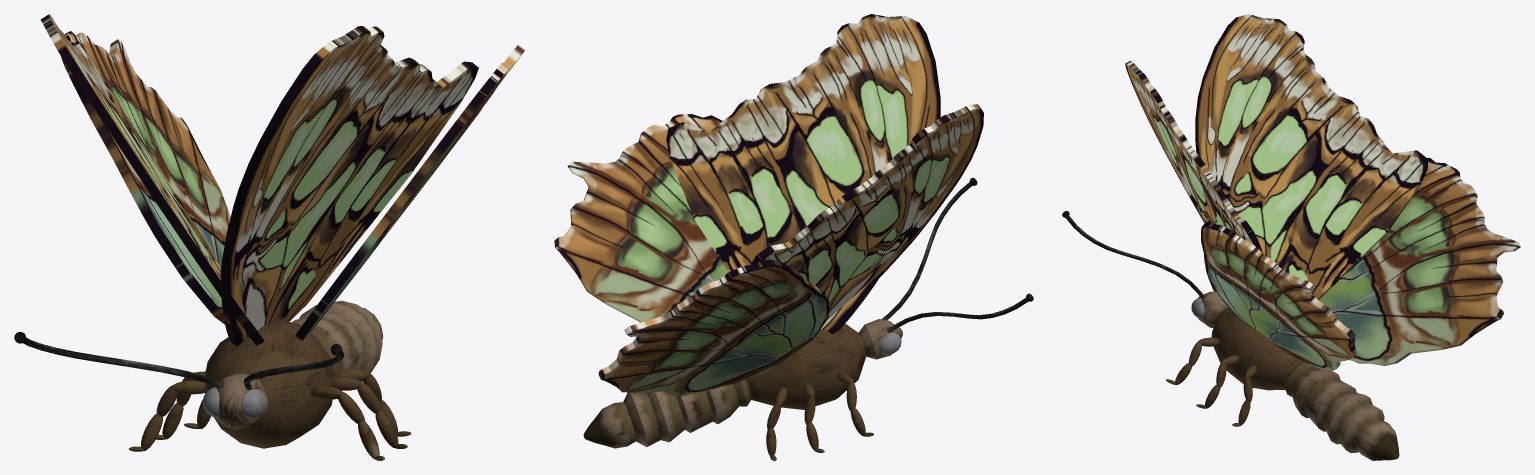
The model's file is butterfly with animations.fbx.
3 views of the same model, side by side, from view 1: azimuth 30°, elevation 25°; view 2: azimuth 150°, elevation 25°; view 3: azimuth 270°, elevation 25° (orthographic). The views are drawn at different scales.
Visible parts, largest first — view 1: Bone.001, Bone, Bone.003, Bone.004, Bone.002; view 2: Bone.001, Bone.002, Bone.003, Bone.004, Bone; view 3: Bone.004, Bone.003, Bone, Bone.002, Bone.001.
Boxes of the visible parts, bbox=[...] form: Bone.001: bbox=[220, 26, 478, 346]; Bone: bbox=[14, 300, 411, 460]; Bone.003: bbox=[61, 31, 230, 324]; Bone.004: bbox=[40, 14, 264, 345]; Bone.002: bbox=[294, 44, 525, 340]; Bone.001: bbox=[666, 14, 940, 334]; Bone.002: bbox=[554, 114, 728, 322]; Bone.003: bbox=[598, 259, 829, 396]; Bone.004: bbox=[751, 104, 983, 320]; Bone: bbox=[583, 177, 1033, 460]; Bone.004: bbox=[1195, 14, 1428, 299]; Bone.003: bbox=[1318, 158, 1520, 365]; Bone: bbox=[1062, 211, 1399, 460]; Bone.002: bbox=[1201, 221, 1356, 370]; Bone.001: bbox=[1125, 61, 1263, 253].
Size of the model in its own units: 72.37 by 61.41 by 76.97.
